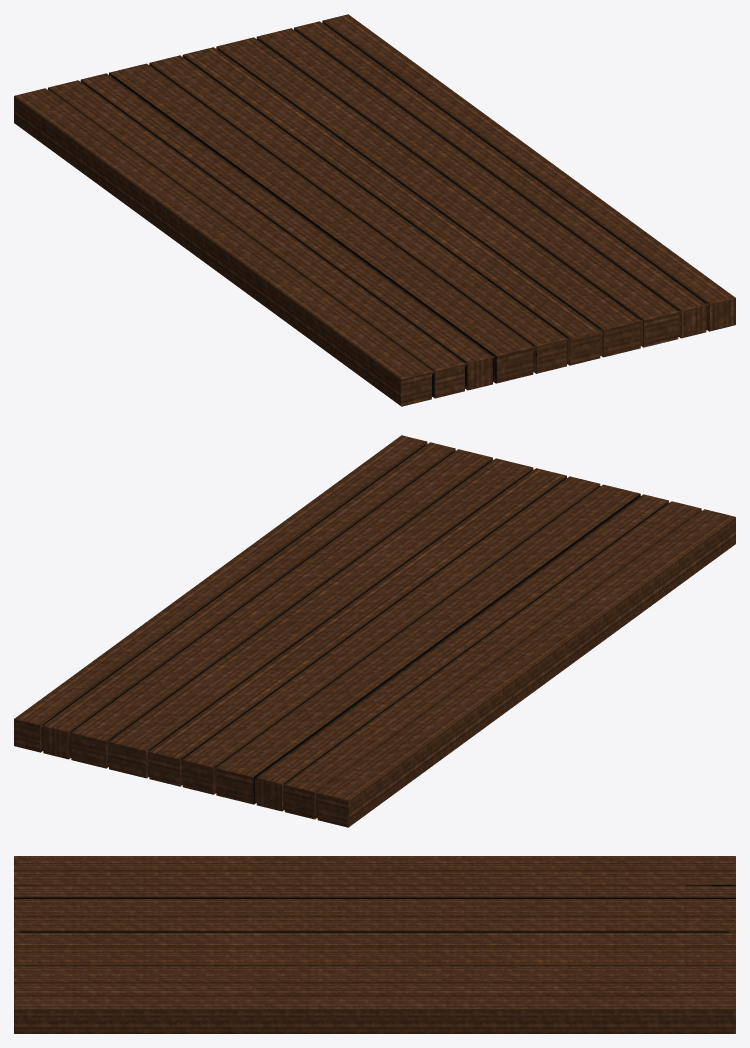
Rendered from Table.fbx.
3 views of the same model, one above another, from view 1: azimuth 30°, elevation 25°; view 2: azimuth 150°, elevation 25°; view 3: azimuth 270°, elevation 25° (orthographic). The views are drawn at different scales.
Parts seen in each view (by area): view 1: Table1; view 2: Table1; view 3: Table1.
Part boxes in pixels (left/top/right/bottom): Table1: left=14, top=14, right=735, bottom=406; Table1: left=14, top=435, right=735, bottom=827; Table1: left=14, top=856, right=735, bottom=1033.
Bounding box in the file's own units: 50 × 4 × 100.
